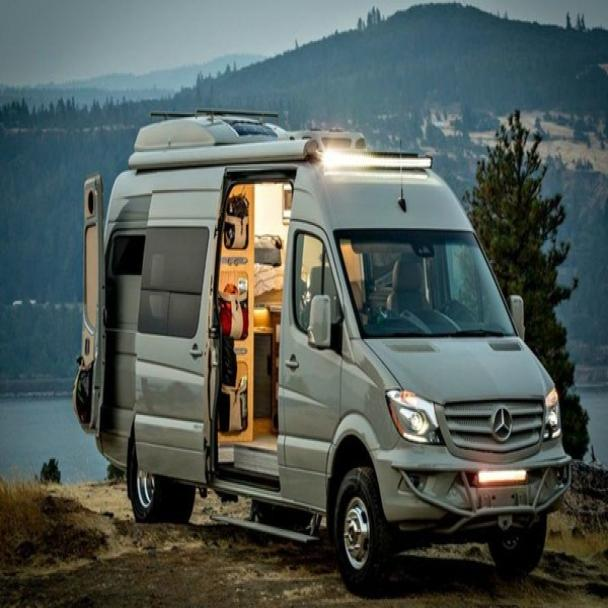Mobil: (99, 134, 570, 583)
